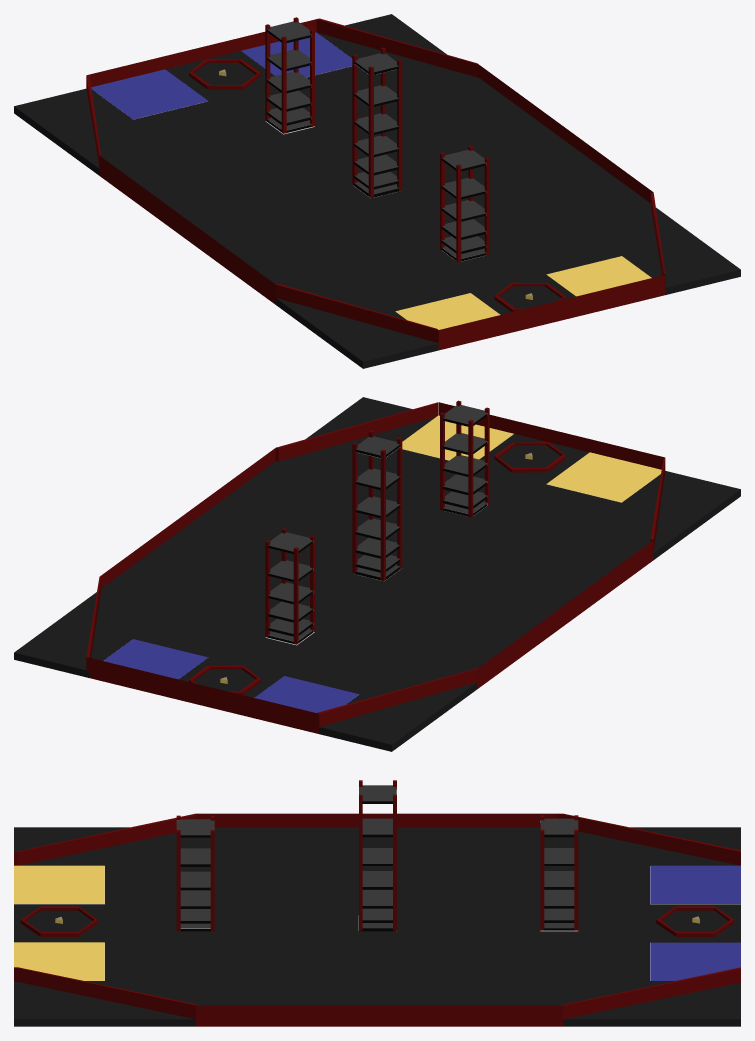
File: playing-field.glb
The picture shows the model from 3 angles, top to bottom: view 1: azimuth 30°, elevation 25°; view 2: azimuth 150°, elevation 25°; view 3: azimuth 270°, elevation 25°; orthographic projection. The views are drawn at different scales.
Visible parts, largest first — view 1: Sketchup; view 2: Sketchup; view 3: Sketchup, Sketchup.006.
Part boxes in pixels (x1,y1,x2,y2): Sketchup: [14, 14, 740, 368]; Sketchup: [14, 397, 740, 751]; Sketchup: [14, 780, 740, 1026]; Sketchup.006: [359, 785, 396, 801].
Bounding box in the file's own units: 6.09 × 2.11 × 9.75.
